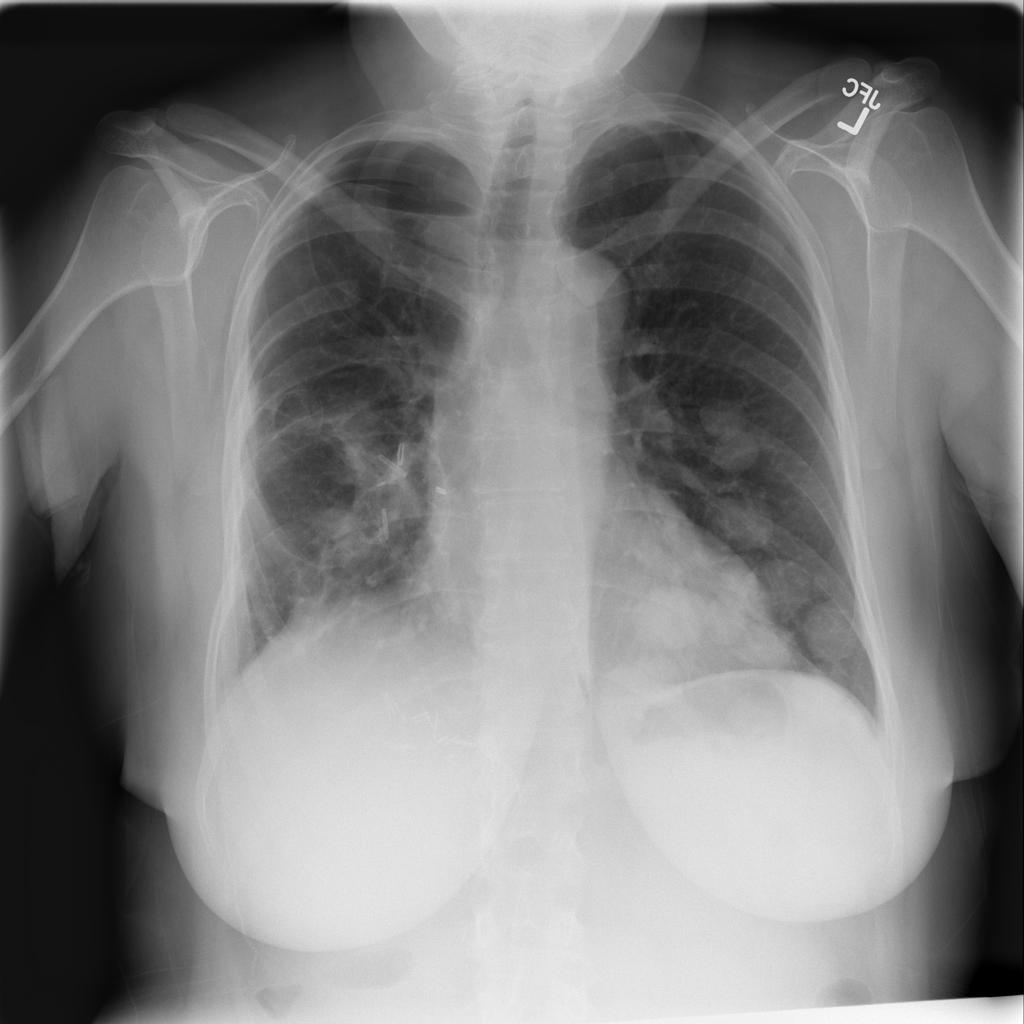nodule: (626, 580, 708, 658), (695, 392, 767, 480), (797, 591, 872, 670), (703, 492, 784, 560), (750, 546, 818, 624), (722, 614, 800, 681), (713, 685, 790, 751)
